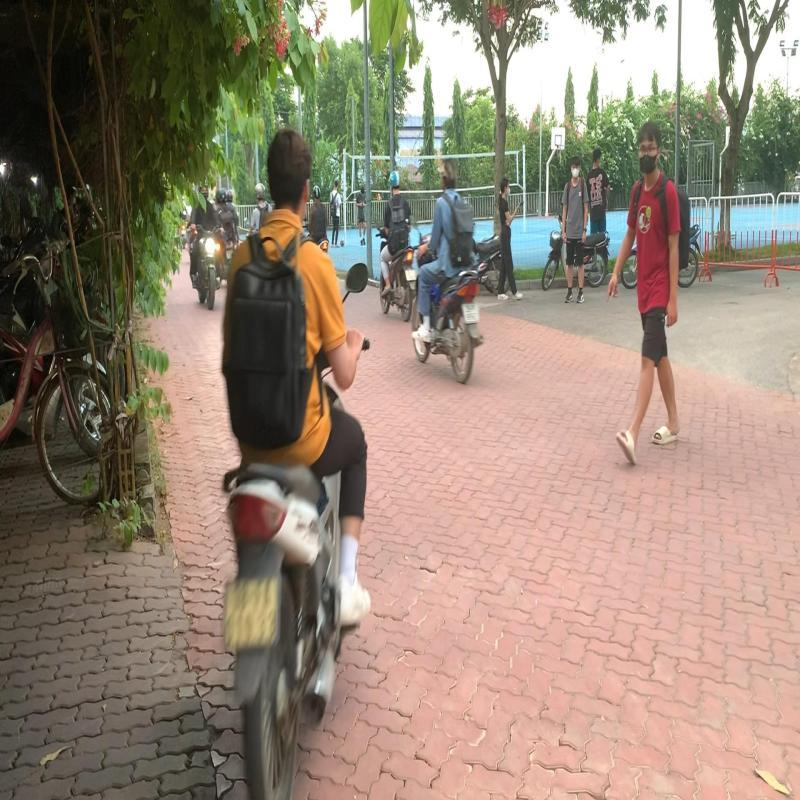nohelmet: (264, 123, 316, 212)
